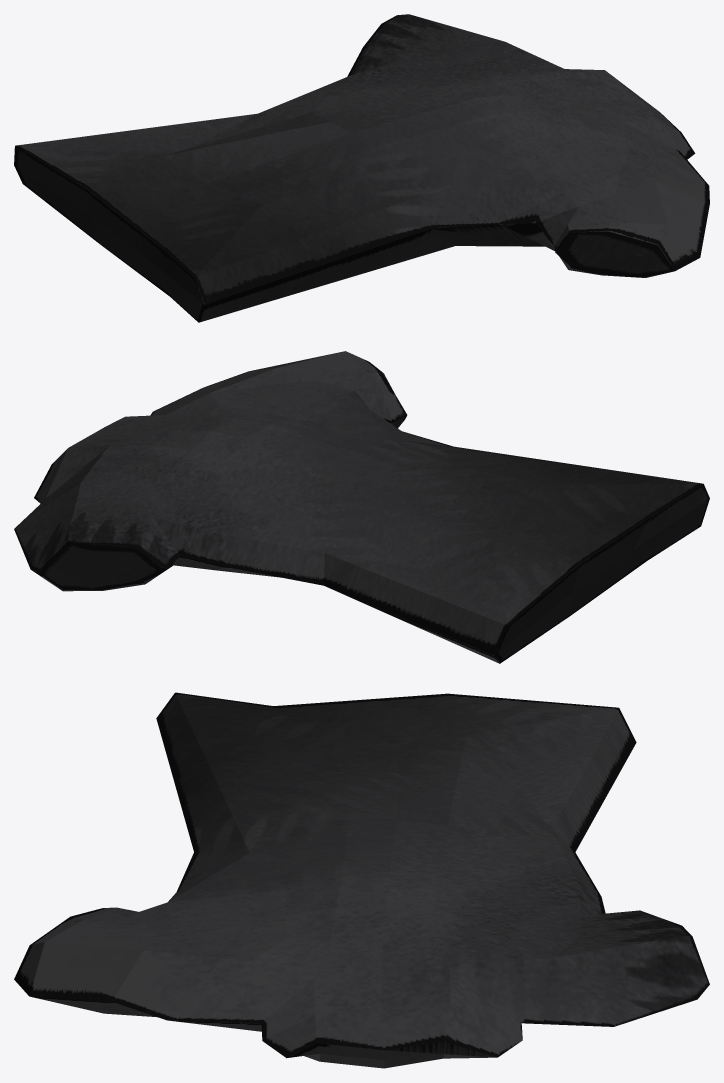
The model's file is Futbolka.obj.
3 views of the same model, one above another, from view 1: azimuth 30°, elevation 25°; view 2: azimuth 150°, elevation 25°; view 3: azimuth 270°, elevation 25° (orthographic). The views are drawn at different scales.
Parts seen in each view (by area): view 1: Cube.001; view 2: Cube.001; view 3: Cube.001.
Boxes of the visible parts, x1,y1,x2,y2 form: Cube.001: (14,14,709,322); Cube.001: (14,351,709,663); Cube.001: (14,692,709,1068).
Size of the model in its own units: 6.14 by 0.9853 by 5.68.
